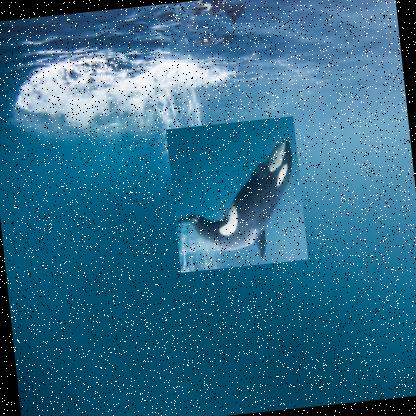killer_whale: (166, 116, 308, 274)
